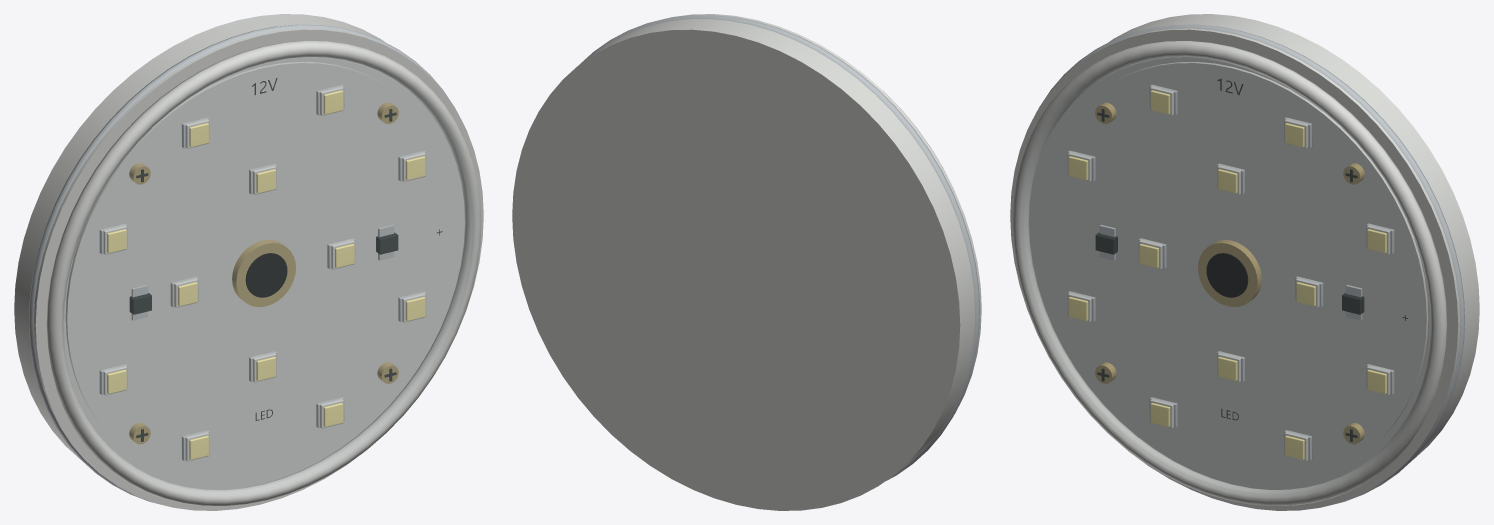
File: emergency_round_lamp.glb
The picture shows the model from 3 angles, left to right: view 1: azimuth 30°, elevation 25°; view 2: azimuth 150°, elevation 25°; view 3: azimuth 330°, elevation 25°; orthographic projection.
Parts seen in each view (by area): view 1: EmergencyLampBody_White, LampLens_Glass, EmergencyLampBody_Silver, LampLEDs_LedPhosphor, EmergencyLampBody_Brass, EmergencyLampBody_Gasket, EmergencyLampBody_Ink; view 2: EmergencyLampBody_White, EmergencyLampBody_Silver; view 3: EmergencyLampBody_White, LampLens_Glass, EmergencyLampBody_Silver, LampLEDs_LedPhosphor, EmergencyLampBody_Brass, EmergencyLampBody_Gasket, EmergencyLampBody_Ink.
Boxes of the visible parts, <box> form: EmergencyLampBody_White: <box>14,14,483,510</box>; LampLens_Glass: <box>62,56,474,497</box>; EmergencyLampBody_Silver: <box>29,24,455,502</box>; LampLEDs_LedPhosphor: <box>107,90,425,459</box>; EmergencyLampBody_Brass: <box>129,102,398,444</box>; EmergencyLampBody_Gasket: <box>245,253,287,297</box>; EmergencyLampBody_Ink: <box>129,78,442,441</box>; EmergencyLampBody_White: <box>512,14,981,510</box>; EmergencyLampBody_Silver: <box>580,15,979,481</box>; EmergencyLampBody_White: <box>1010,14,1479,510</box>; LampLens_Glass: <box>1019,56,1431,497</box>; EmergencyLampBody_Silver: <box>1038,24,1464,502</box>; LampLEDs_LedPhosphor: <box>1068,90,1386,459</box>; EmergencyLampBody_Brass: <box>1095,102,1364,444</box>; EmergencyLampBody_Gasket: <box>1206,253,1248,297</box>; EmergencyLampBody_Ink: <box>1095,78,1408,441</box>.
Bounding box in the file's own units: 0.121 × 0.121 × 0.0145.
